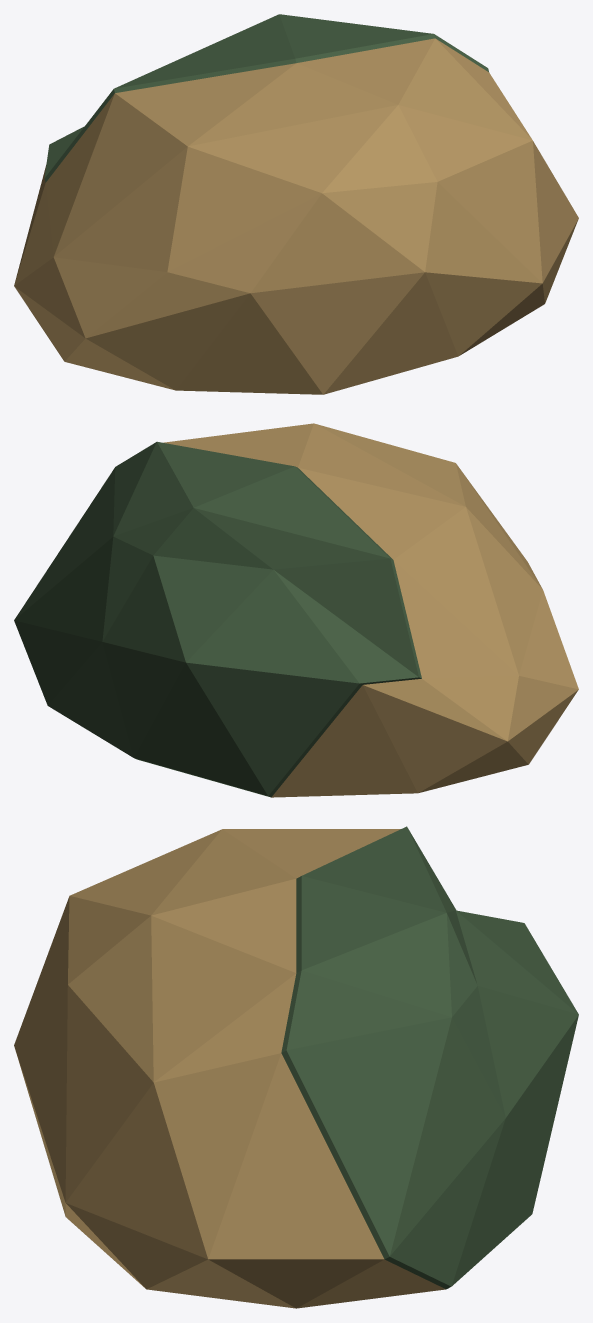
The model's file is MossStone2N.fbx.
3 views of the same model, one above another, from view 1: azimuth 30°, elevation 25°; view 2: azimuth 150°, elevation 25°; view 3: azimuth 270°, elevation 25° (orthographic). The views are drawn at different scales.
Visible parts, largest first — view 1: MossStone2N; view 2: MossStone2N; view 3: MossStone2N.
Part boxes in pixels (bbox=[...]): MossStone2N: bbox=[14, 14, 578, 394]; MossStone2N: bbox=[14, 423, 578, 797]; MossStone2N: bbox=[14, 826, 578, 1308].
Size of the model in its own units: 493 by 233 by 396.
